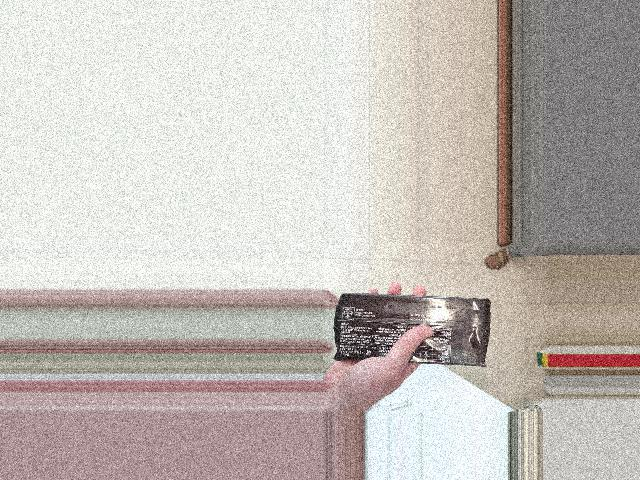chocolate: (334, 288, 494, 366)
